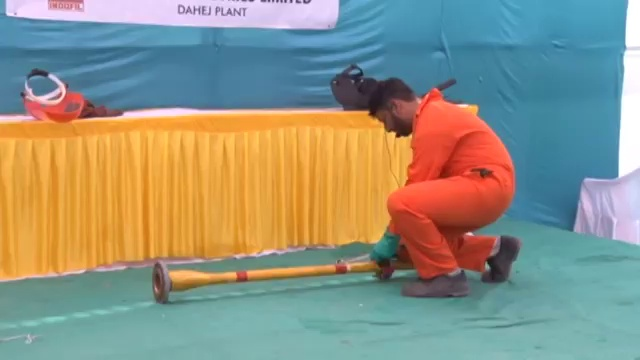helmet_off: (366, 78, 417, 139)
person: (361, 71, 527, 302)
